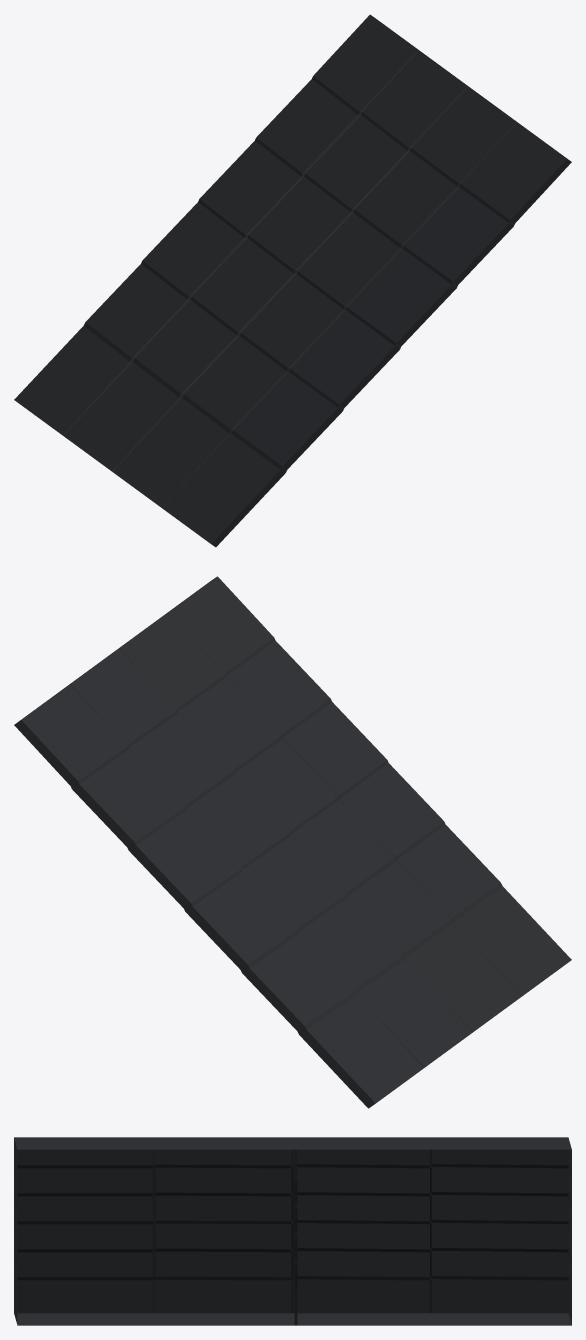
File: HouseRoof.fbx
3 views of the same model, one above another, from view 1: azimuth 30°, elevation 25°; view 2: azimuth 150°, elevation 25°; view 3: azimuth 270°, elevation 25° (orthographic). The views are drawn at different scales.
Visible parts, largest first — view 1: Cube.007; view 2: Cube.007; view 3: Cube.007.
Part boxes in pixels (left/top/right/bottom): Cube.007: left=14, top=14, right=571, bottom=547; Cube.007: left=14, top=576, right=571, bottom=1108; Cube.007: left=14, top=1137, right=571, bottom=1325.
Bounding box in the file's own units: 212 × 170 × 201.
